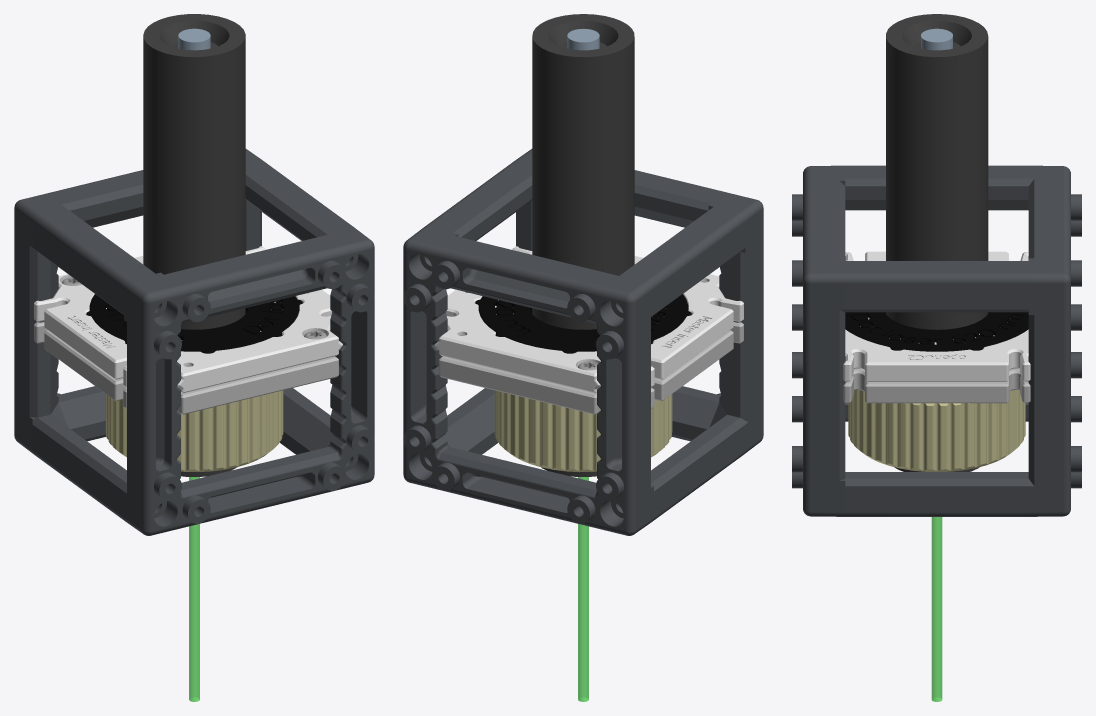
Rendered from ASS_-_2018_-_CUBLAS520_-_V04_-_A.glb.
3 renders of one model, left to right at view 1: azimuth 30°, elevation 25°; view 2: azimuth 150°, elevation 25°; view 3: azimuth 270°, elevation 25°, orthographic.
Parts seen in each view (by area): view 1: PRT - 1003 - CUBHLF111 - V04:2, BUY - Picotronic - Dot laser - LFD520-1-3(19x86):1, PRT - 1003 - CUBHLF111 - V04:1, PRT - 2123 - MASLCK - V04 - B:1, PRT - 2117 - NUTLASHOLD19 - A:1, PRT - 2100 - MASINS - V04 - B:1, PRT - 2116 - MASINSHOLLAS520 - A:1; view 2: PRT - 1003 - CUBHLF111 - V04:1, BUY - Picotronic - Dot laser - LFD520-1-3(19x86):1, PRT - 1003 - CUBHLF111 - V04:2, PRT - 2123 - MASLCK - V04 - B:1, PRT - 2117 - NUTLASHOLD19 - A:1, PRT - 2100 - MASINS - V04 - B:1, PRT - 2116 - MASINSHOLLAS520 - A:1; view 3: PRT - 1003 - CUBHLF111 - V04:1, BUY - Picotronic - Dot laser - LFD520-1-3(19x86):1, PRT - 1003 - CUBHLF111 - V04:2, PRT - 2117 - NUTLASHOLD19 - A:1, PRT - 2123 - MASLCK - V04 - B:1, PRT - 2116 - MASINSHOLLAS520 - A:1, PRT - 2100 - MASINS - V04 - B:1.
Boxes of the visible parts, box(x1,y1,x2,y2) form: PRT - 1003 - CUBHLF111 - V04:2: box(32, 159, 374, 535); BUY - Picotronic - Dot laser - LFD520-1-3(19x86):1: box(143, 14, 245, 701); PRT - 1003 - CUBHLF111 - V04:1: box(14, 149, 350, 462); PRT - 2123 - MASLCK - V04 - B:1: box(34, 246, 342, 393); PRT - 2117 - NUTLASHOLD19 - A:1: box(105, 390, 283, 471); PRT - 2100 - MASINS - V04 - B:1: box(34, 322, 338, 414); PRT - 2116 - MASINSHOLLAS520 - A:1: box(86, 294, 302, 353); PRT - 1003 - CUBHLF111 - V04:1: box(403, 207, 745, 535); BUY - Picotronic - Dot laser - LFD520-1-3(19x86):1: box(532, 14, 634, 701); PRT - 1003 - CUBHLF111 - V04:2: box(425, 149, 763, 521); PRT - 2123 - MASLCK - V04 - B:1: box(435, 246, 743, 393); PRT - 2117 - NUTLASHOLD19 - A:1: box(494, 390, 672, 472); PRT - 2100 - MASINS - V04 - B:1: box(439, 322, 743, 414); PRT - 2116 - MASINSHOLLAS520 - A:1: box(475, 294, 691, 353); PRT - 1003 - CUBHLF111 - V04:1: box(845, 165, 1081, 516); BUY - Picotronic - Dot laser - LFD520-1-3(19x86):1: box(886, 14, 988, 701); PRT - 1003 - CUBHLF111 - V04:2: box(792, 165, 1028, 516); PRT - 2117 - NUTLASHOLD19 - A:1: box(848, 390, 1025, 471); PRT - 2123 - MASLCK - V04 - B:1: box(843, 251, 1030, 381); PRT - 2116 - MASINSHOLLAS520 - A:1: box(845, 312, 1028, 351); PRT - 2100 - MASINS - V04 - B:1: box(843, 368, 1030, 403).
Size of the model in its own units: 49.8 by 136 by 53.8.
